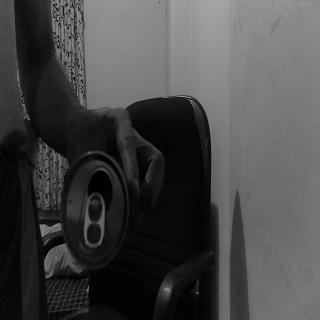alumunium_can: (61, 153, 130, 269)
